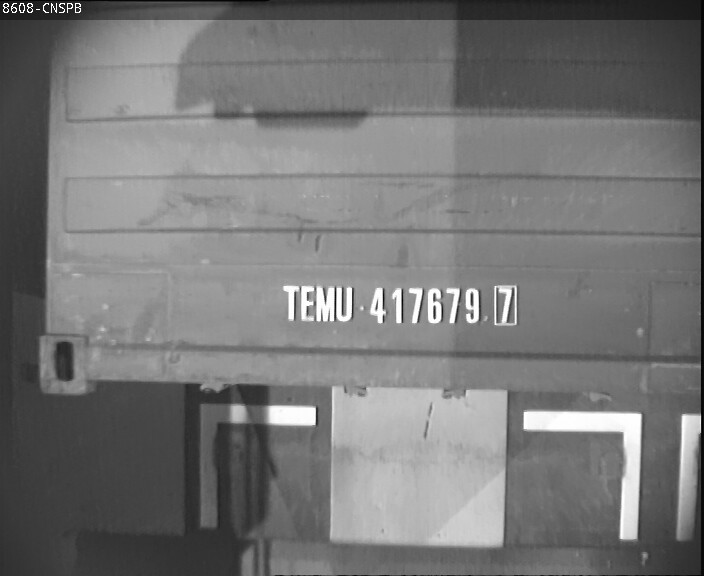groundmarker_1: (524, 407, 704, 538)
